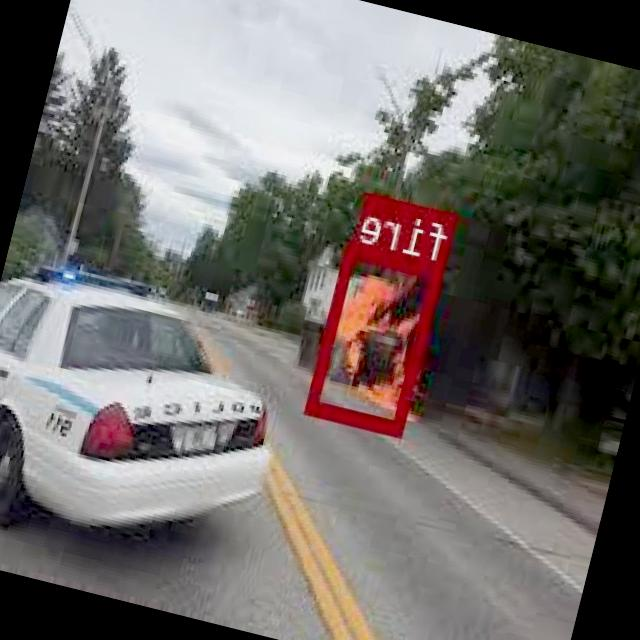fire: (308, 240, 446, 433)
